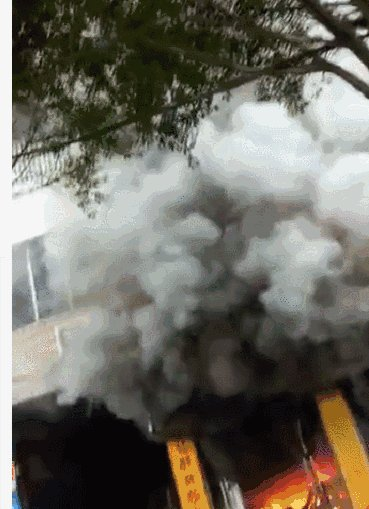smoke: (72, 149, 368, 416)
